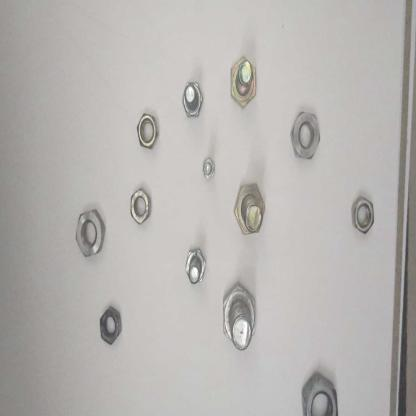Bolts: (221, 284, 268, 358), (232, 176, 265, 244), (229, 56, 259, 109), (177, 78, 204, 125), (184, 245, 207, 289), (199, 154, 219, 190)
NUTS: (285, 106, 322, 162), (299, 369, 341, 416), (70, 205, 107, 255), (94, 297, 126, 350), (127, 184, 158, 230), (128, 111, 163, 151), (350, 192, 378, 240)
